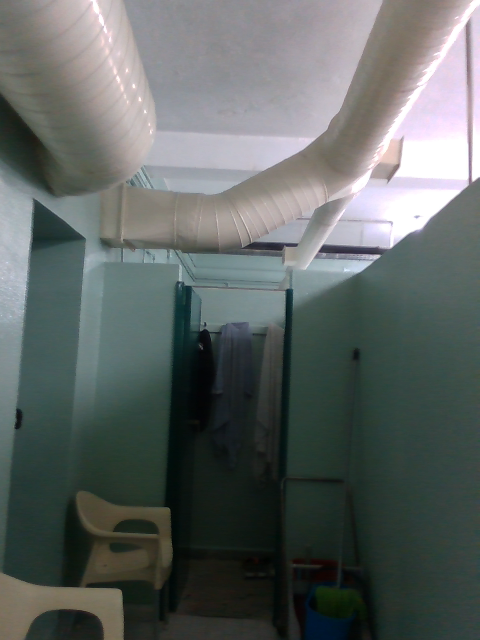open: (165, 281, 204, 569)
